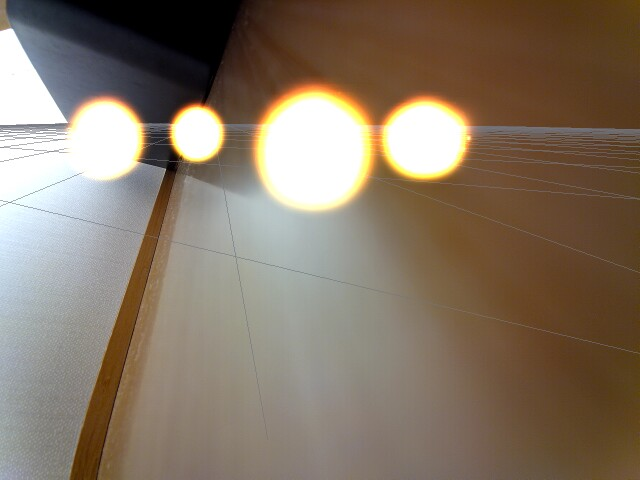fire: (256, 92, 370, 209), (385, 99, 467, 181), (69, 98, 142, 179), (170, 104, 226, 164)
